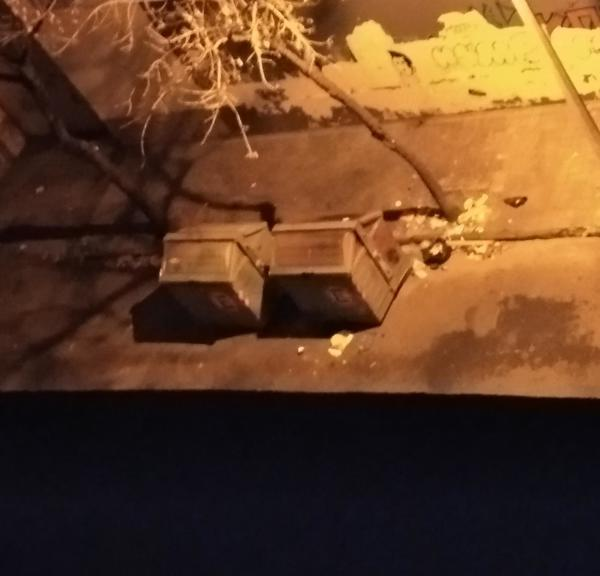Dechets: (392, 194, 495, 268), (325, 327, 352, 358), (497, 185, 528, 210), (243, 148, 261, 162)
Trash: (264, 211, 411, 336), (159, 222, 275, 334)
